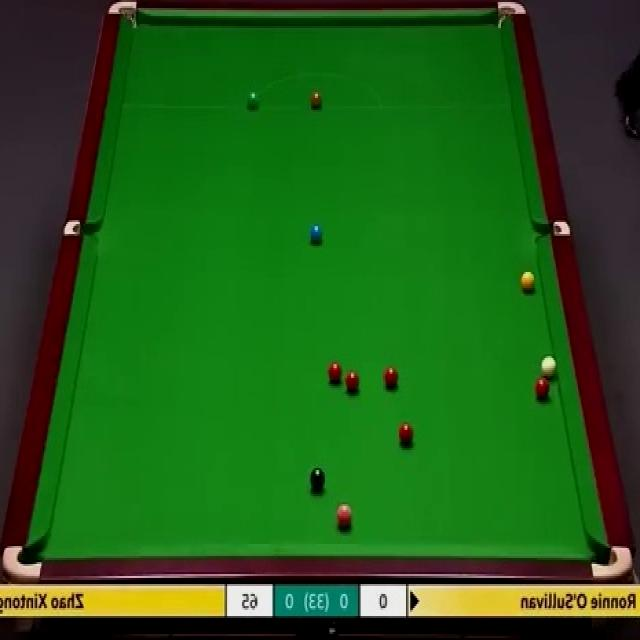black-ball: (309, 466, 325, 488)
blue-ball: (309, 222, 324, 246)
brown-ball: (310, 88, 322, 108)
green-ball: (245, 88, 262, 110)
pink-ball: (336, 504, 355, 528)
red-ball: (397, 421, 412, 448), (344, 370, 360, 395), (327, 362, 345, 384), (533, 378, 548, 402), (383, 364, 398, 388)
white-ball: (540, 352, 556, 380)
yellow-ball: (519, 268, 538, 292)
